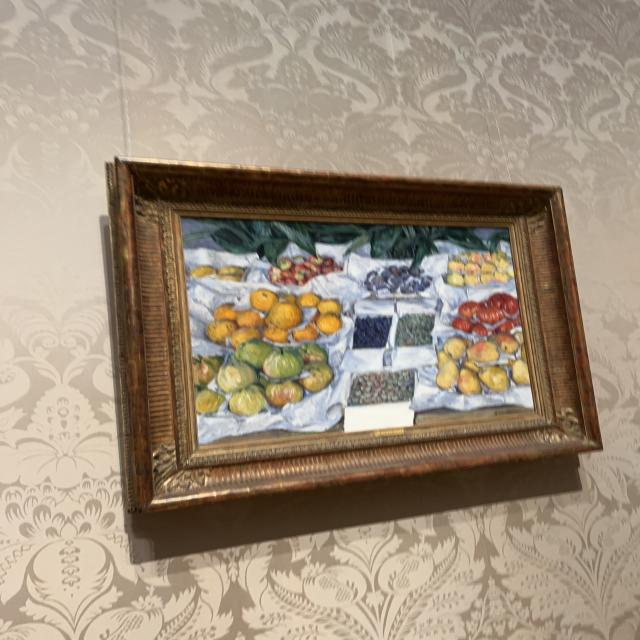fruits: (184, 222, 531, 443)
